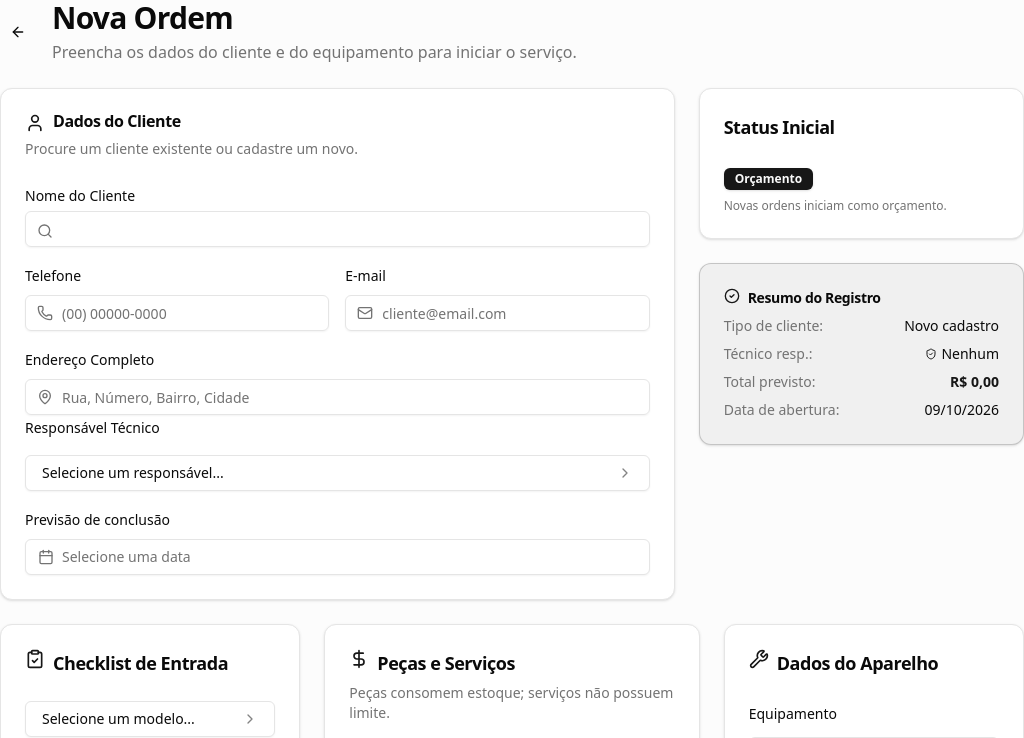
Test case: ServiceOrderCreate › selects an employee created inline without loading the full employee list
Click the button "Selecione um responsável..." at (133, 472), box [25, 455, 650, 491]
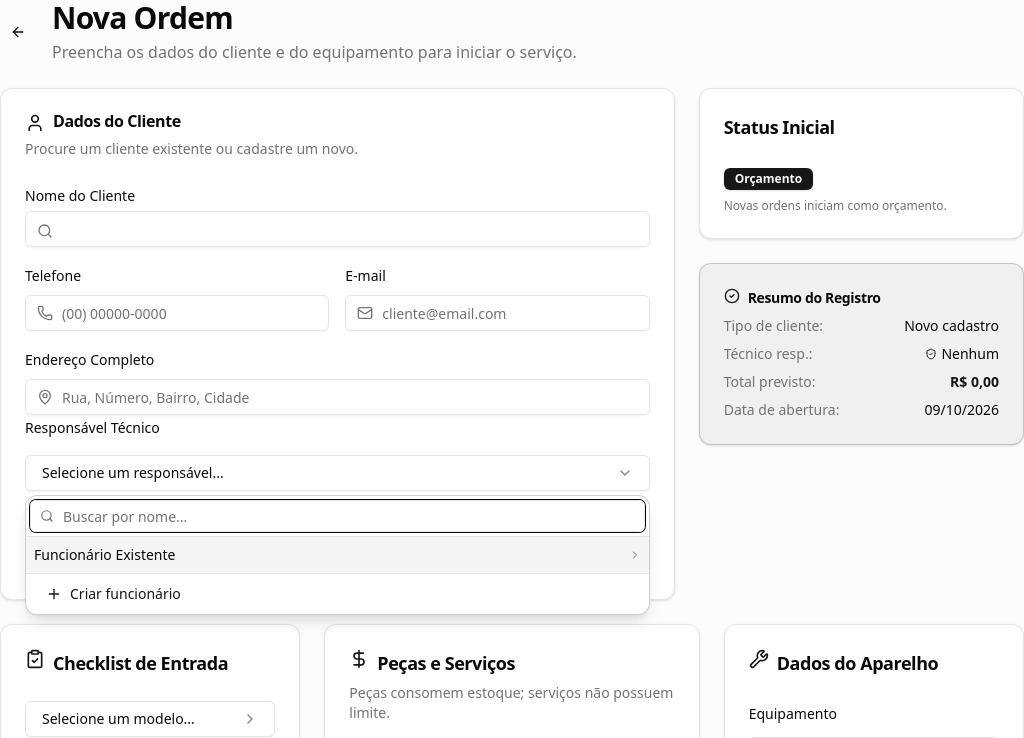
Click the button "Criar funcionário" at (125, 594), box [30, 578, 645, 610]
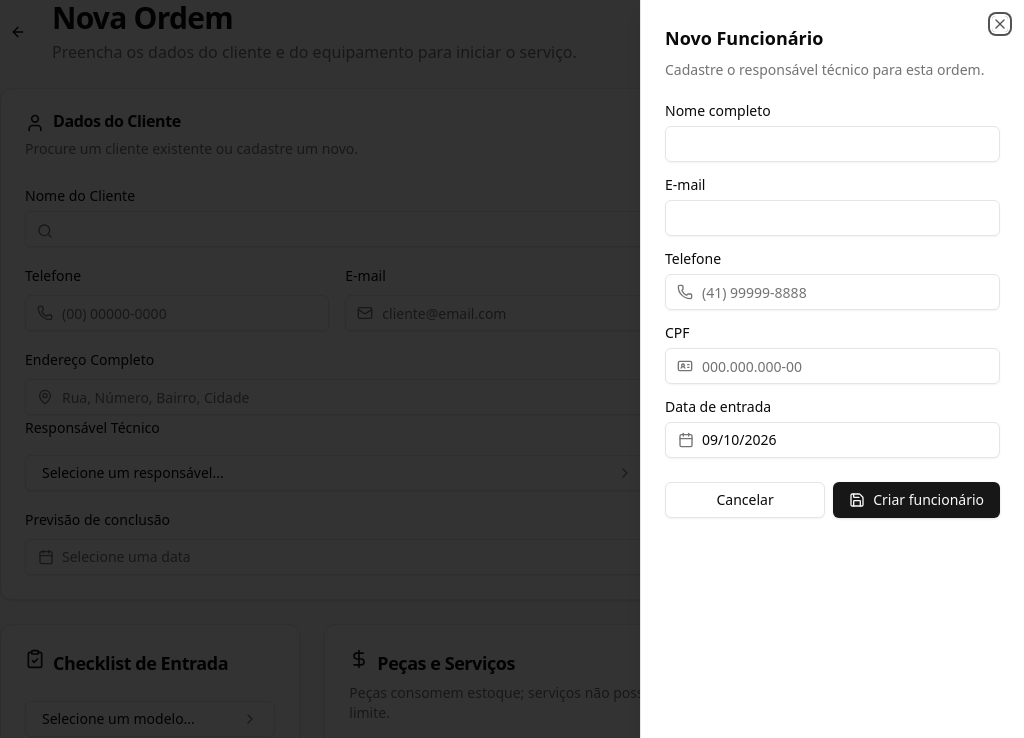
Type "Ana Técnica" into the field labelled "Nome completo" at (832, 144), box [665, 126, 1000, 162]
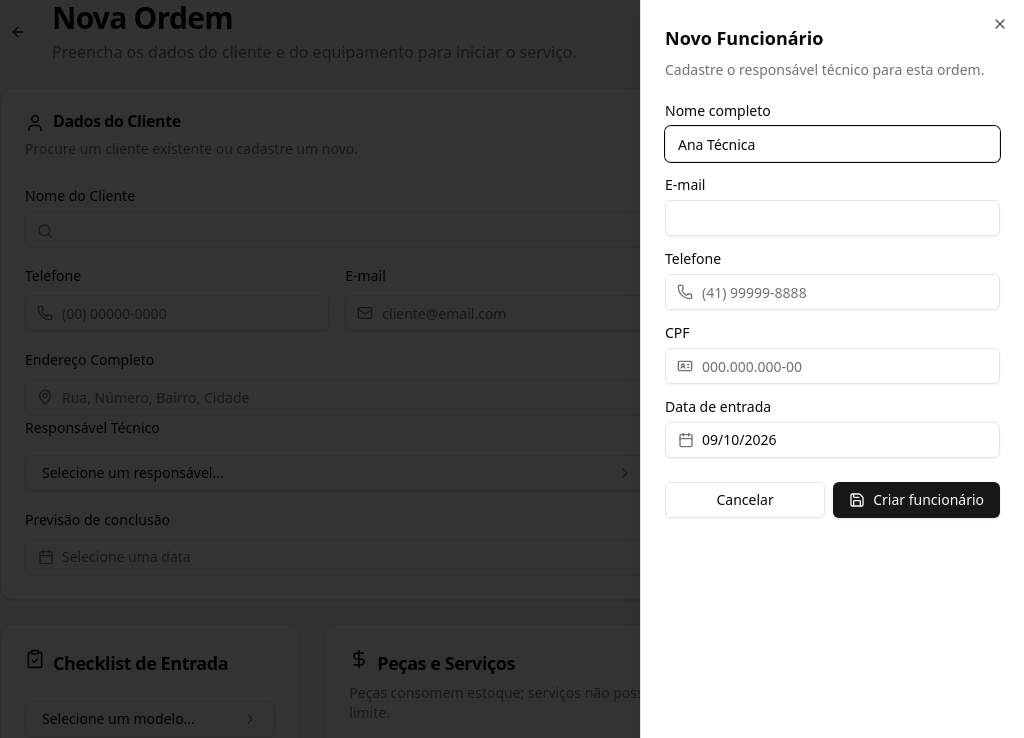
Type "ana@example.com" into the field labelled "E-mail" at (832, 218), box [665, 200, 1000, 236]
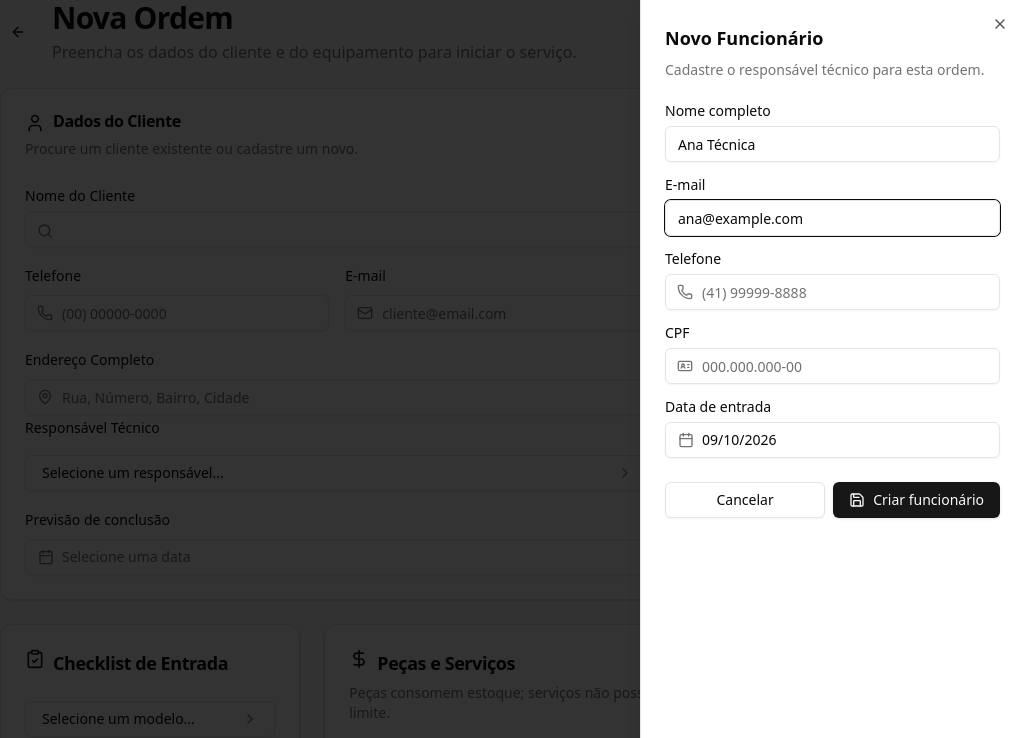
Click the button "Criar funcionário" at (917, 500), box [833, 482, 1000, 518]
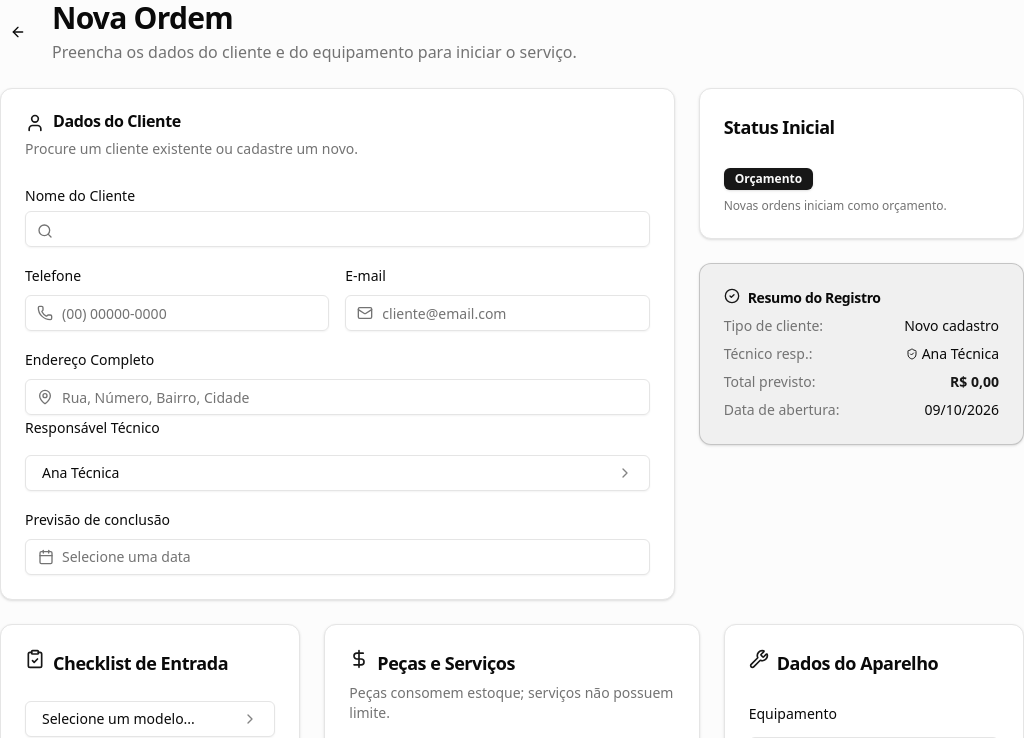
Expected: the button "Ana Técnica" is shown, [25, 455, 650, 491]
